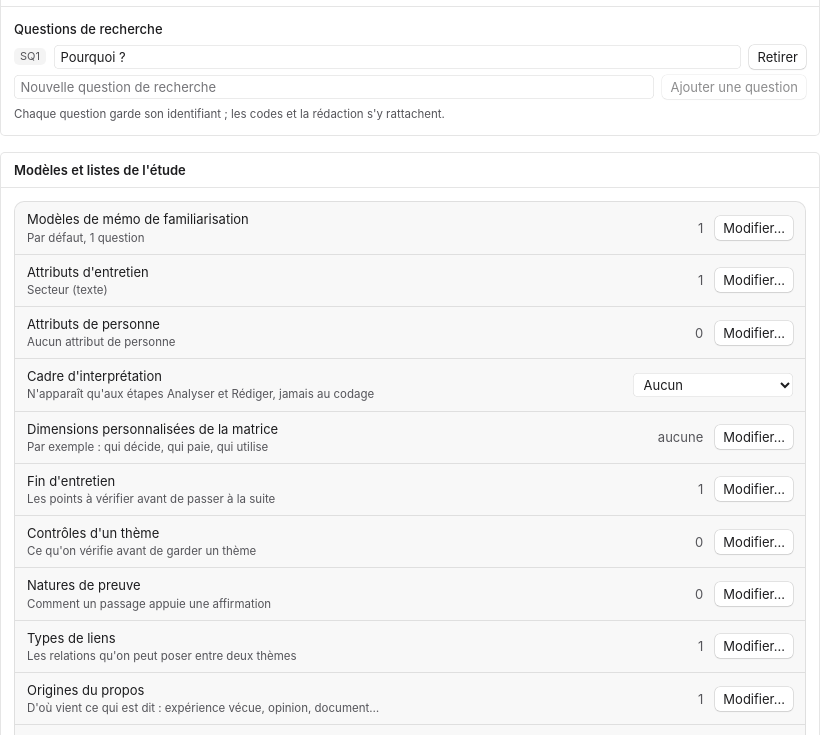
Test: modèles et listes › asks for at least one dimension of a custom framework
(page scrolled)
Expected: the text "Par défaut, 1 question" is shown, x1=27 y1=231 x2=144 y2=245
Select "Personnalisé" in the dropdown labelled "Cadre d'interprétation" at (713, 385), box x1=633 y1=373 x2=793 y2=397
(page scrolled)
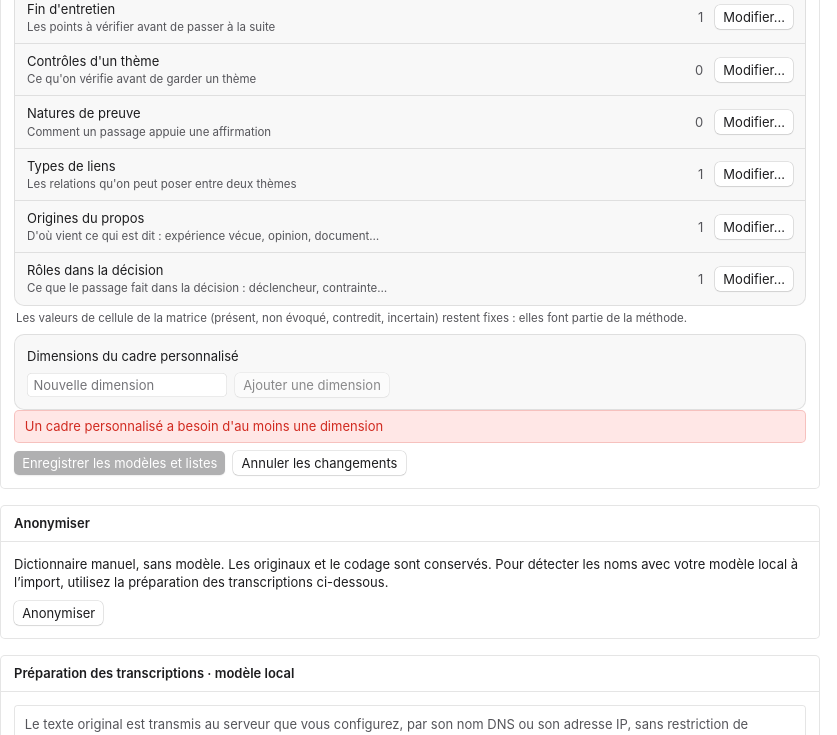
Expected: the text "Un cadre personnalisé a besoin d'au moins une dimension" is shown, x1=14 y1=410 x2=806 y2=443
Type "Qui décide" into the field labelled "Nouvelle dimension" at (127, 385), box x1=27 y1=373 x2=227 y2=397
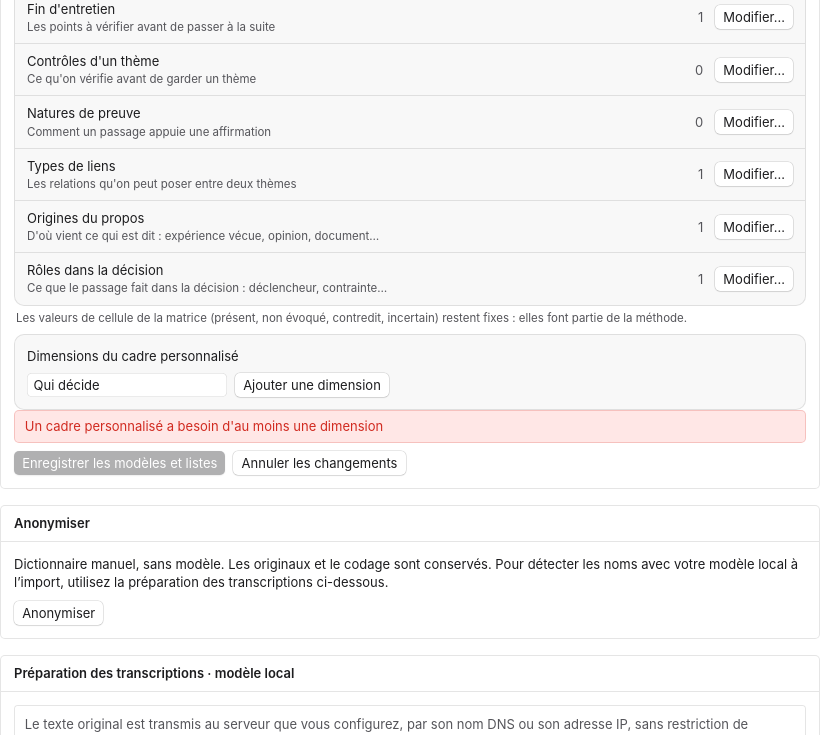
Click the button "Ajouter une dimension" at (312, 385), box x1=235 y1=373 x2=389 y2=397
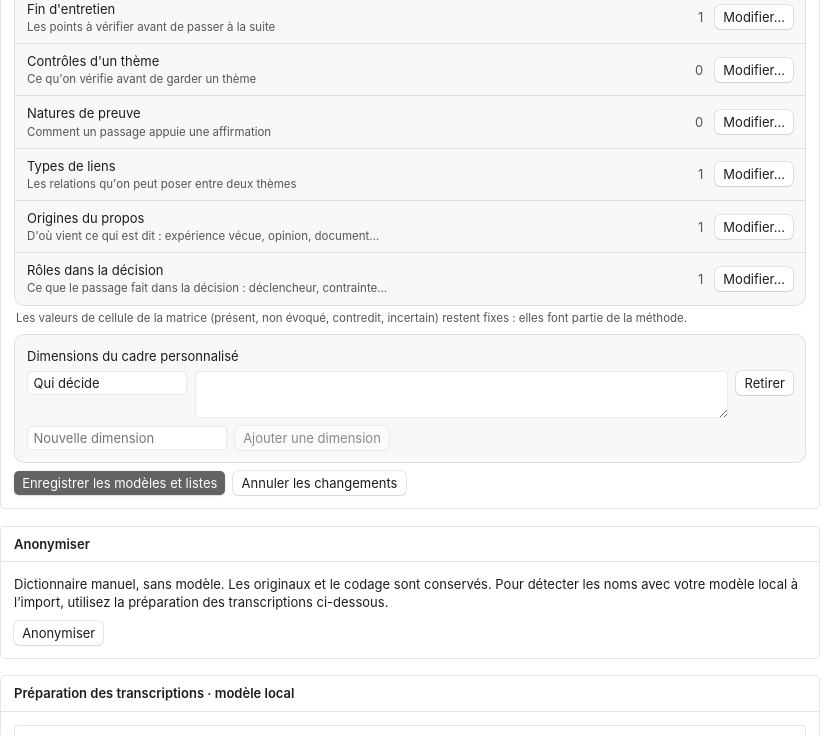
Expected: the button "Enregistrer les modèles et listes" is enabled, x1=14 y1=471 x2=226 y2=495
